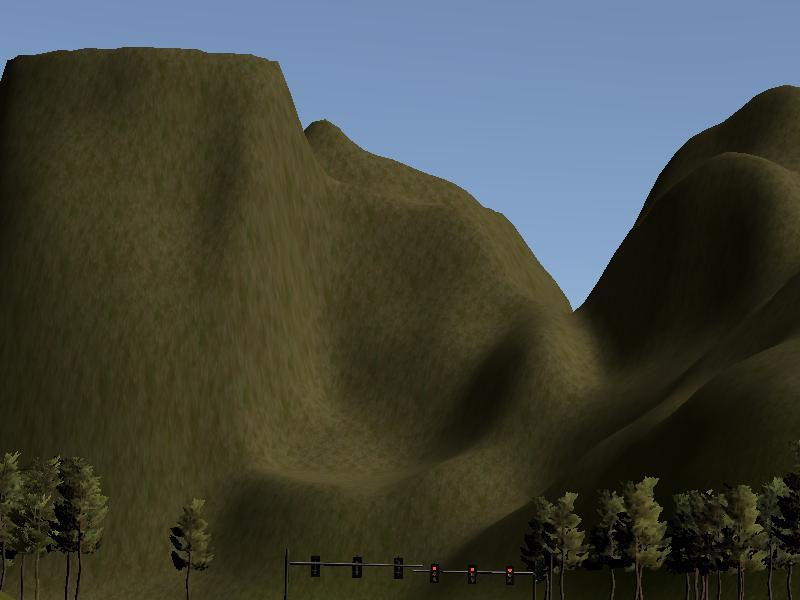Red: (504, 562, 515, 587), (429, 563, 441, 585), (466, 563, 478, 585)
